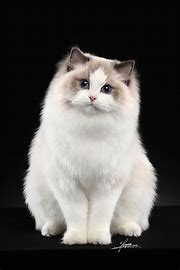cat: (22, 43, 160, 250)
